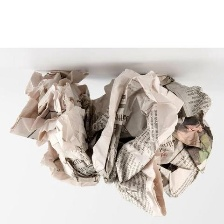news_paper: (7, 65, 217, 218)
